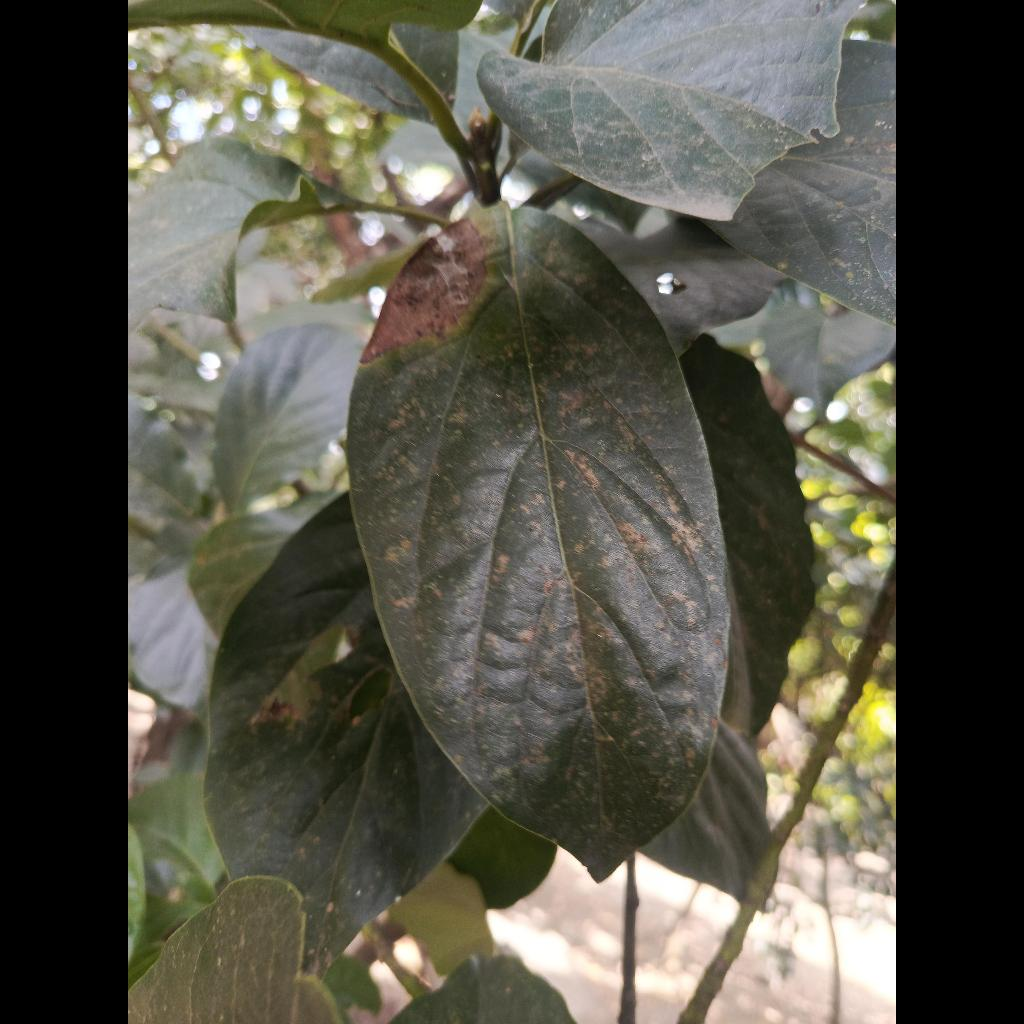Anthracnose: (348, 204, 728, 878)
